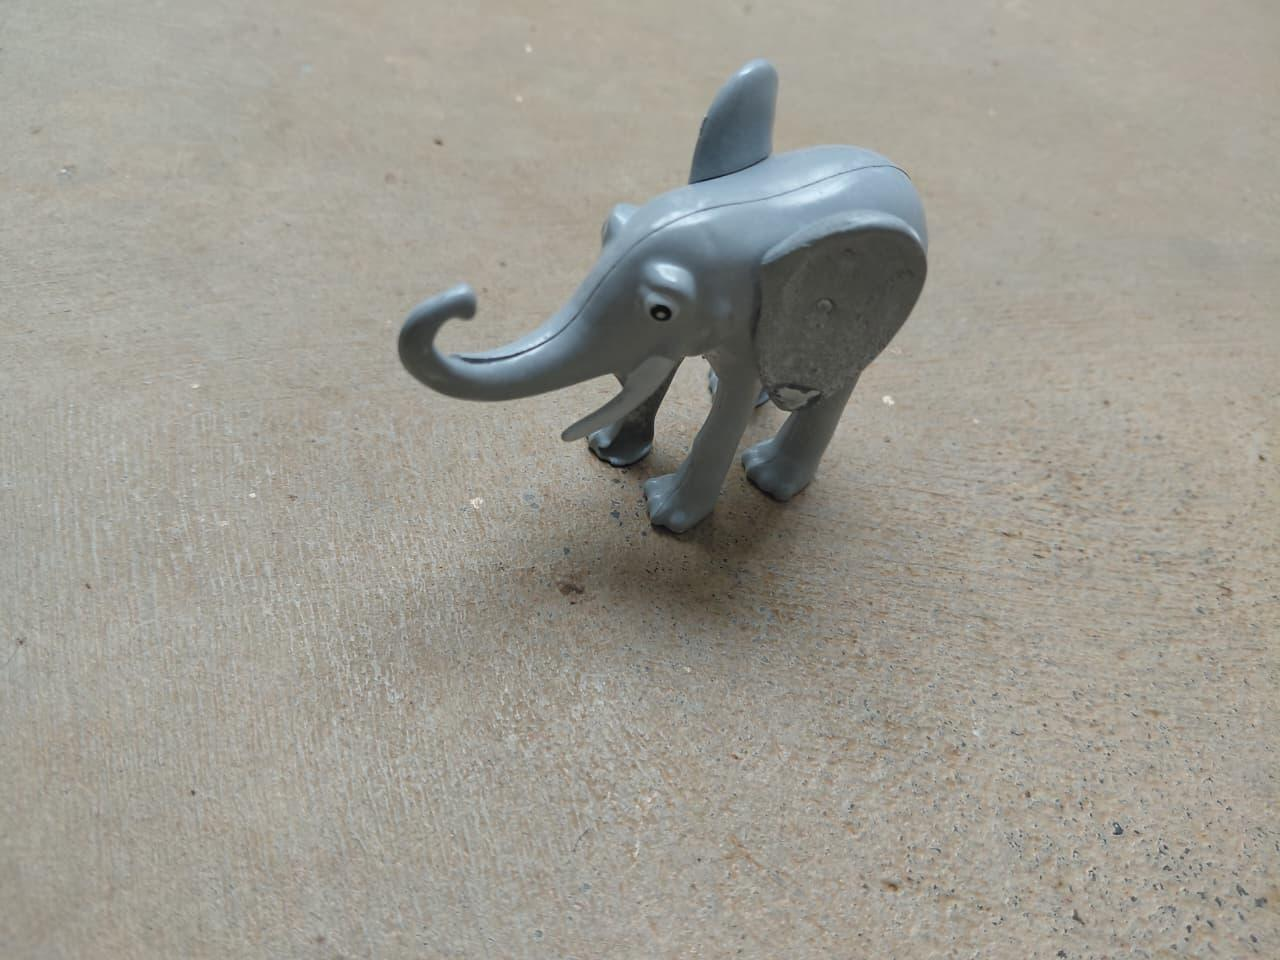elephant: (394, 58, 947, 547)
